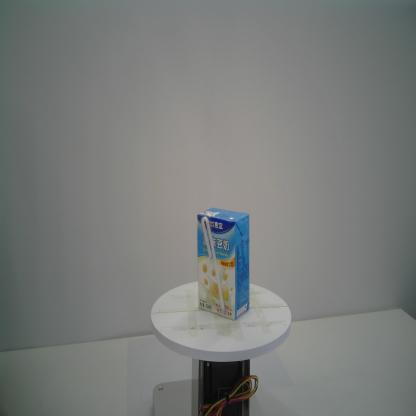Milk: (196, 206, 251, 323)
